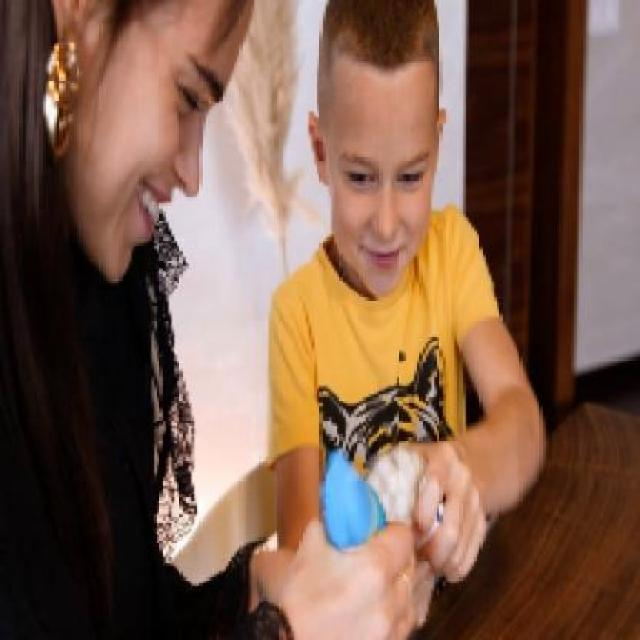child: (268, 0, 552, 583)
